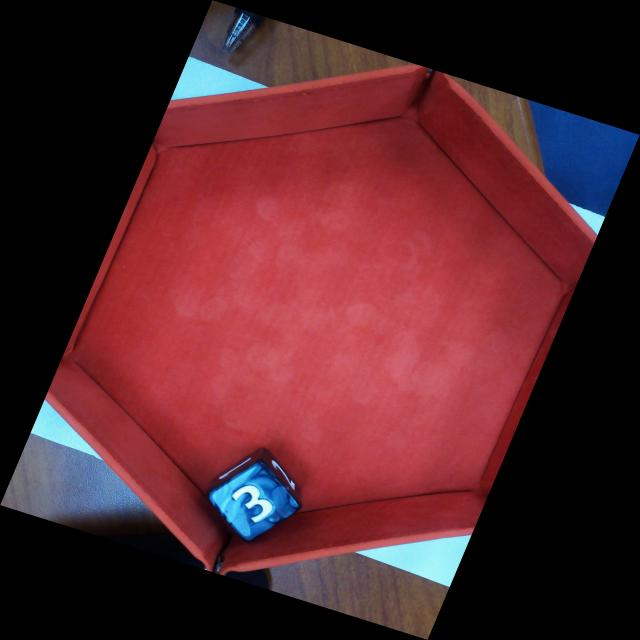dice: (211, 460, 302, 541)
